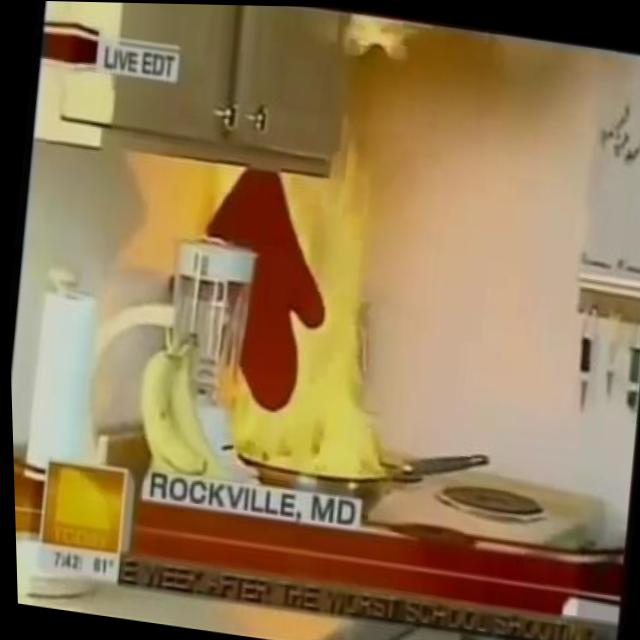fire: (221, 159, 418, 486)
